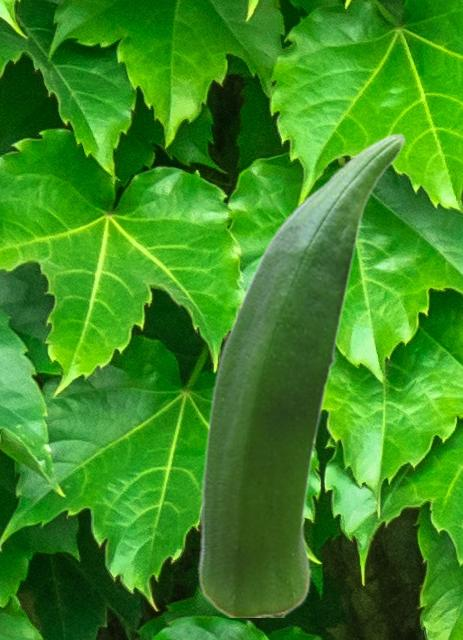okra: (196, 132, 405, 616)
